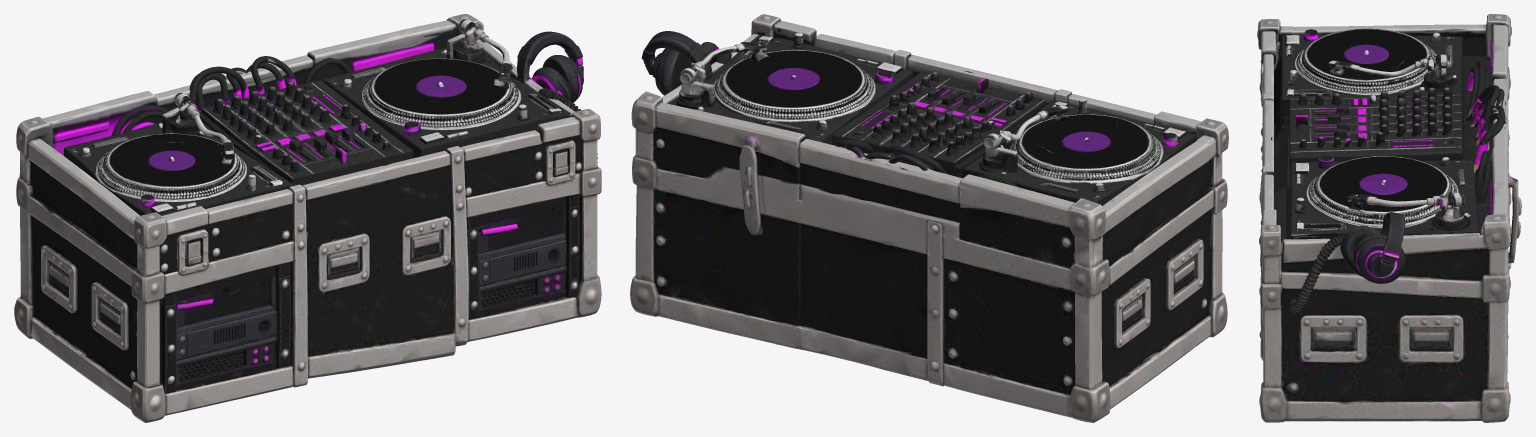
The model's file is dj_stand_upgraded_opt.glb.
3 renders of one model, left to right at view 1: azimuth 30°, elevation 25°; view 2: azimuth 150°, elevation 25°; view 3: azimuth 270°, elevation 25°, orthographic. The views are drawn at different scales.
Size of the model in its own units: 1.9 by 0.8471 by 0.9037.
Materials: 1 (1 with a texture image).
